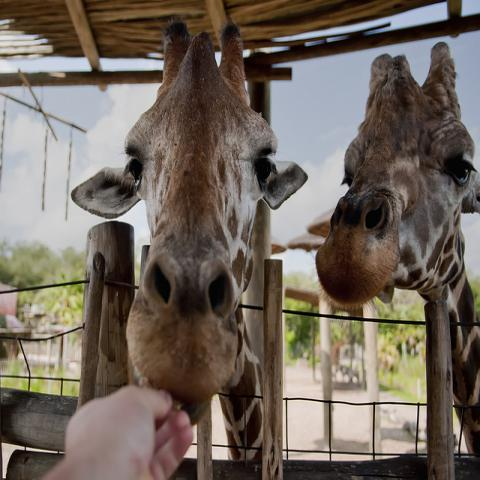car: (338, 346, 350, 370)
